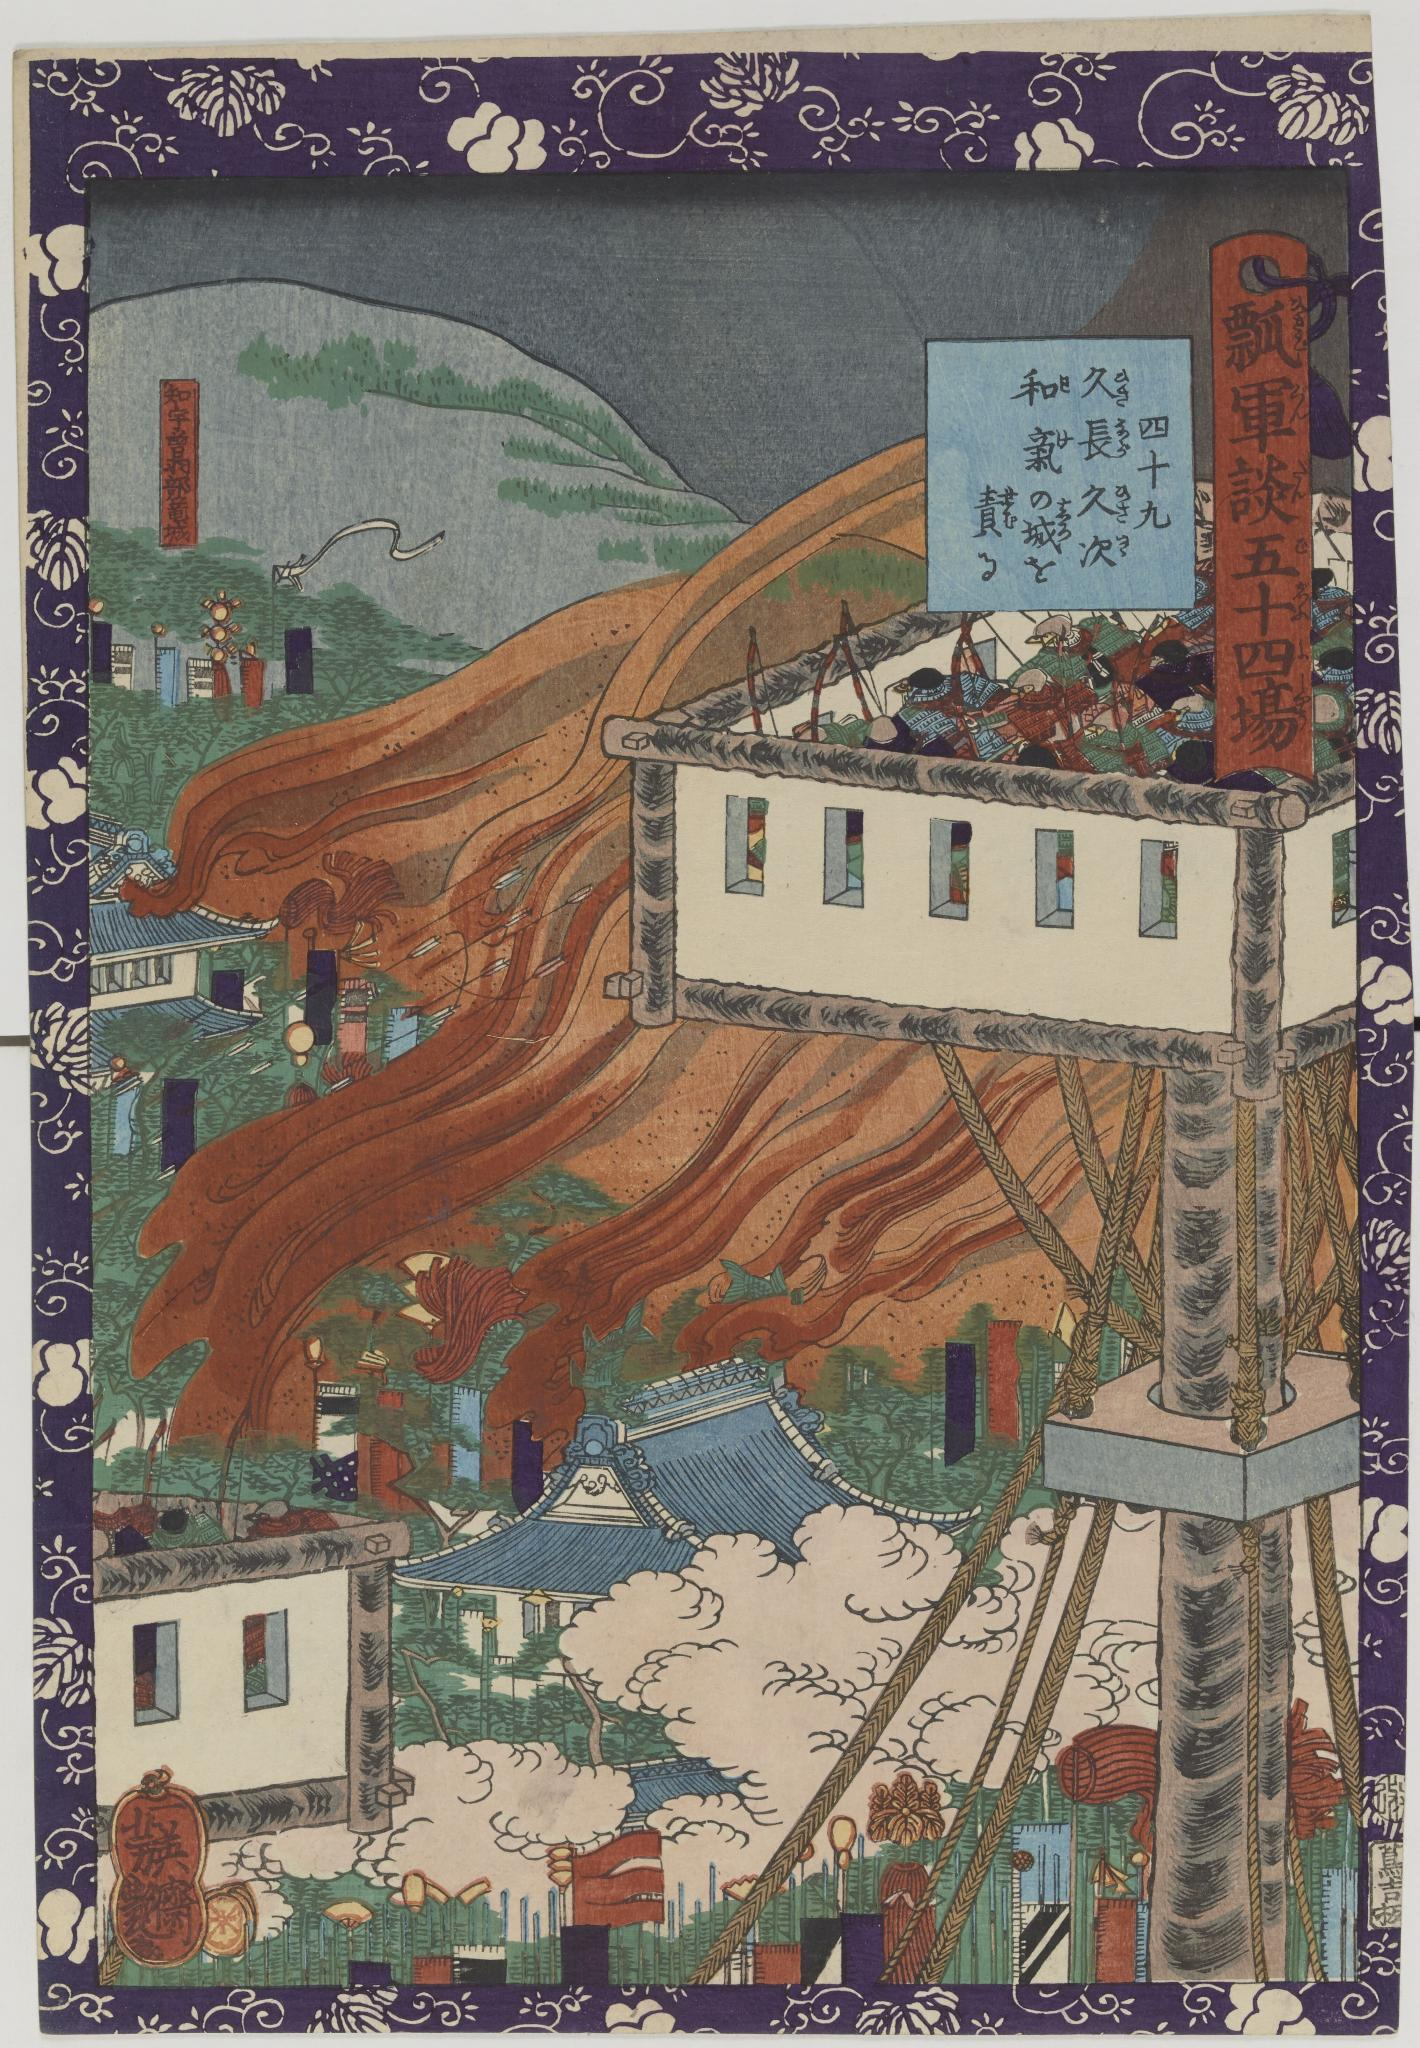MainZone-Character: (1225, 674, 1316, 761), (1227, 378, 1311, 461), (1224, 296, 1308, 377), (1222, 458, 1313, 528), (1225, 531, 1311, 579), (1227, 632, 1316, 677), (1233, 580, 1313, 630), (1014, 419, 1076, 478), (1009, 364, 1073, 411), (1021, 498, 1073, 554), (1073, 528, 1130, 573), (1082, 361, 1132, 411), (975, 482, 1017, 540), (1081, 416, 1130, 462), (1077, 484, 1130, 524)
MainZone-Ruby: (1286, 296, 1309, 356), (1292, 679, 1314, 741), (1286, 381, 1313, 423), (1115, 364, 1134, 414), (1001, 482, 1020, 532), (1291, 459, 1309, 506), (1292, 580, 1311, 626), (1115, 419, 1134, 464), (1113, 484, 1134, 524), (1054, 500, 1073, 542), (1113, 532, 1132, 568), (1291, 534, 1314, 562), (1054, 423, 1071, 454), (1294, 638, 1313, 660), (1059, 369, 1071, 402)
